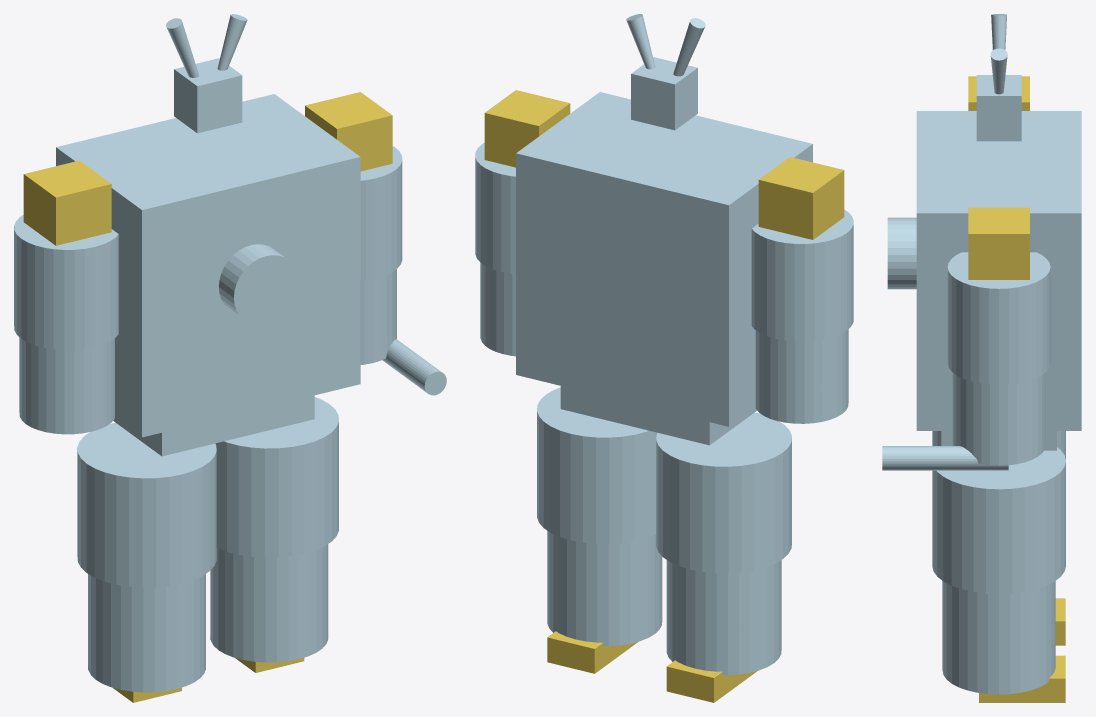
File: traits4.glb
The picture shows the model from 3 angles, left to right: view 1: azimuth 30°, elevation 25°; view 2: azimuth 150°, elevation 25°; view 3: azimuth 270°, elevation 25°; orthographic projection. The views are drawn at different scales.
Visible parts, largest first — view 1: GundarFrame_sample-legendary_torso, GundarFrame_sample-legendary_thigh_L, GundarFrame_sample-legendary_thigh_R, GundarFrame_sample-legendary_shin_L, GundarFrame_sample-legendary_shin_R, GundarFrame_sample-legendary_upperarm_L, GundarFrame_sample-legendary_forearm_L, GundarFrame_sample-legendary_shoulder_L, GundarFrame_sample-legendary_core, GundarFrame_sample-legendary_upperarm_R, GundarFrame_sample-legendary_shoulder_R, GundarFrame_sample-legendary_pelvis (+5 smaller); view 2: GundarFrame_sample-legendary_torso, GundarFrame_sample-legendary_thigh_L, GundarFrame_sample-legendary_thigh_R, GundarFrame_sample-legendary_shin_L, GundarFrame_sample-legendary_shin_R, GundarFrame_sample-legendary_upperarm_L, GundarFrame_sample-legendary_forearm_L, GundarFrame_sample-legendary_shoulder_L, GundarFrame_sample-legendary_upperarm_R, GundarFrame_sample-legendary_shoulder_R, GundarFrame_sample-legendary_pelvis, GundarFrame_sample-legendary_head (+5 smaller); view 3: GundarFrame_sample-legendary_torso, GundarFrame_sample-legendary_thigh_R, GundarFrame_sample-legendary_upperarm_R, GundarFrame_sample-legendary_shin_R, GundarFrame_sample-legendary_forearm_R, GundarFrame_sample-legendary_shoulder_R, GundarFrame_sample-legendary_head, GundarFrame_sample-legendary_weapon, GundarFrame_sample-legendary_core, GundarFrame_sample-legendary_foot_R, GundarFrame_sample-legendary, GundarFrame_sample-legendary_shoulder_L (+4 smaller).
Part boxes in pixels (x1,y1,x2,y2): GundarFrame_sample-legendary_torso: (56, 94, 360, 437); GundarFrame_sample-legendary_thigh_L: (77, 422, 216, 587); GundarFrame_sample-legendary_thigh_R: (215, 397, 338, 557); GundarFrame_sample-legendary_shin_L: (88, 574, 205, 692); GundarFrame_sample-legendary_shin_R: (210, 544, 328, 662); GundarFrame_sample-legendary_upperarm_L: (14, 215, 118, 349); GundarFrame_sample-legendary_forearm_L: (19, 337, 114, 434); GundarFrame_sample-legendary_shoulder_L: (23, 160, 111, 245); GundarFrame_sample-legendary_core: (219, 244, 298, 324); GundarFrame_sample-legendary_upperarm_R: (360, 146, 402, 280); GundarFrame_sample-legendary_shoulder_R: (305, 92, 392, 171); GundarFrame_sample-legendary_pelvis: (113, 395, 314, 456); GundarFrame_sample-legendary_torso: (516, 92, 812, 426); GundarFrame_sample-legendary_thigh_L: (656, 412, 791, 573); GundarFrame_sample-legendary_thigh_R: (537, 387, 656, 544); GundarFrame_sample-legendary_shin_L: (666, 560, 781, 675); GundarFrame_sample-legendary_shin_R: (547, 531, 662, 646); GundarFrame_sample-legendary_upperarm_L: (751, 209, 853, 341); GundarFrame_sample-legendary_forearm_L: (755, 329, 848, 423); GundarFrame_sample-legendary_shoulder_L: (758, 157, 844, 239); GundarFrame_sample-legendary_upperarm_R: (475, 143, 515, 274); GundarFrame_sample-legendary_shoulder_R: (484, 90, 570, 167); GundarFrame_sample-legendary_pelvis: (560, 386, 756, 445); GundarFrame_sample-legendary_head: (631, 57, 697, 130); GundarFrame_sample-legendary_torso: (916, 111, 1081, 430); GundarFrame_sample-legendary_thigh_R: (932, 447, 1065, 593); GundarFrame_sample-legendary_upperarm_R: (947, 252, 1050, 384); GundarFrame_sample-legendary_shin_R: (942, 581, 1055, 694); GundarFrame_sample-legendary_forearm_R: (952, 373, 1045, 465); GundarFrame_sample-legendary_shoulder_R: (968, 207, 1029, 279); GundarFrame_sample-legendary_head: (976, 75, 1021, 141); GundarFrame_sample-legendary_weapon: (882, 446, 1008, 470); GundarFrame_sample-legendary_core: (887, 217, 916, 289); GundarFrame_sample-legendary_foot_R: (979, 655, 1065, 702); GundarFrame_sample-legendary: (990, 48, 1007, 94); GundarFrame_sample-legendary_shoulder_L: (968, 76, 1029, 110).
Bounding box in the file's own units: 2.15 × 3.63 × 1.03.
